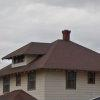Chimney: (59, 22, 71, 45)
